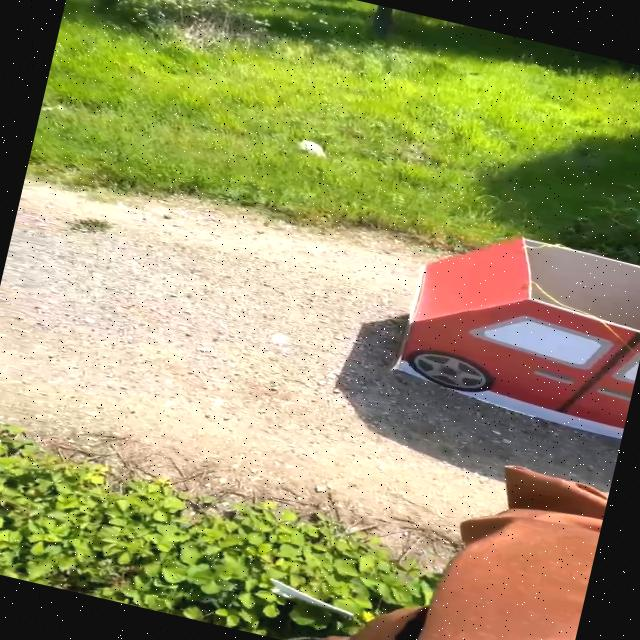red_car: (313, 187, 640, 461)
